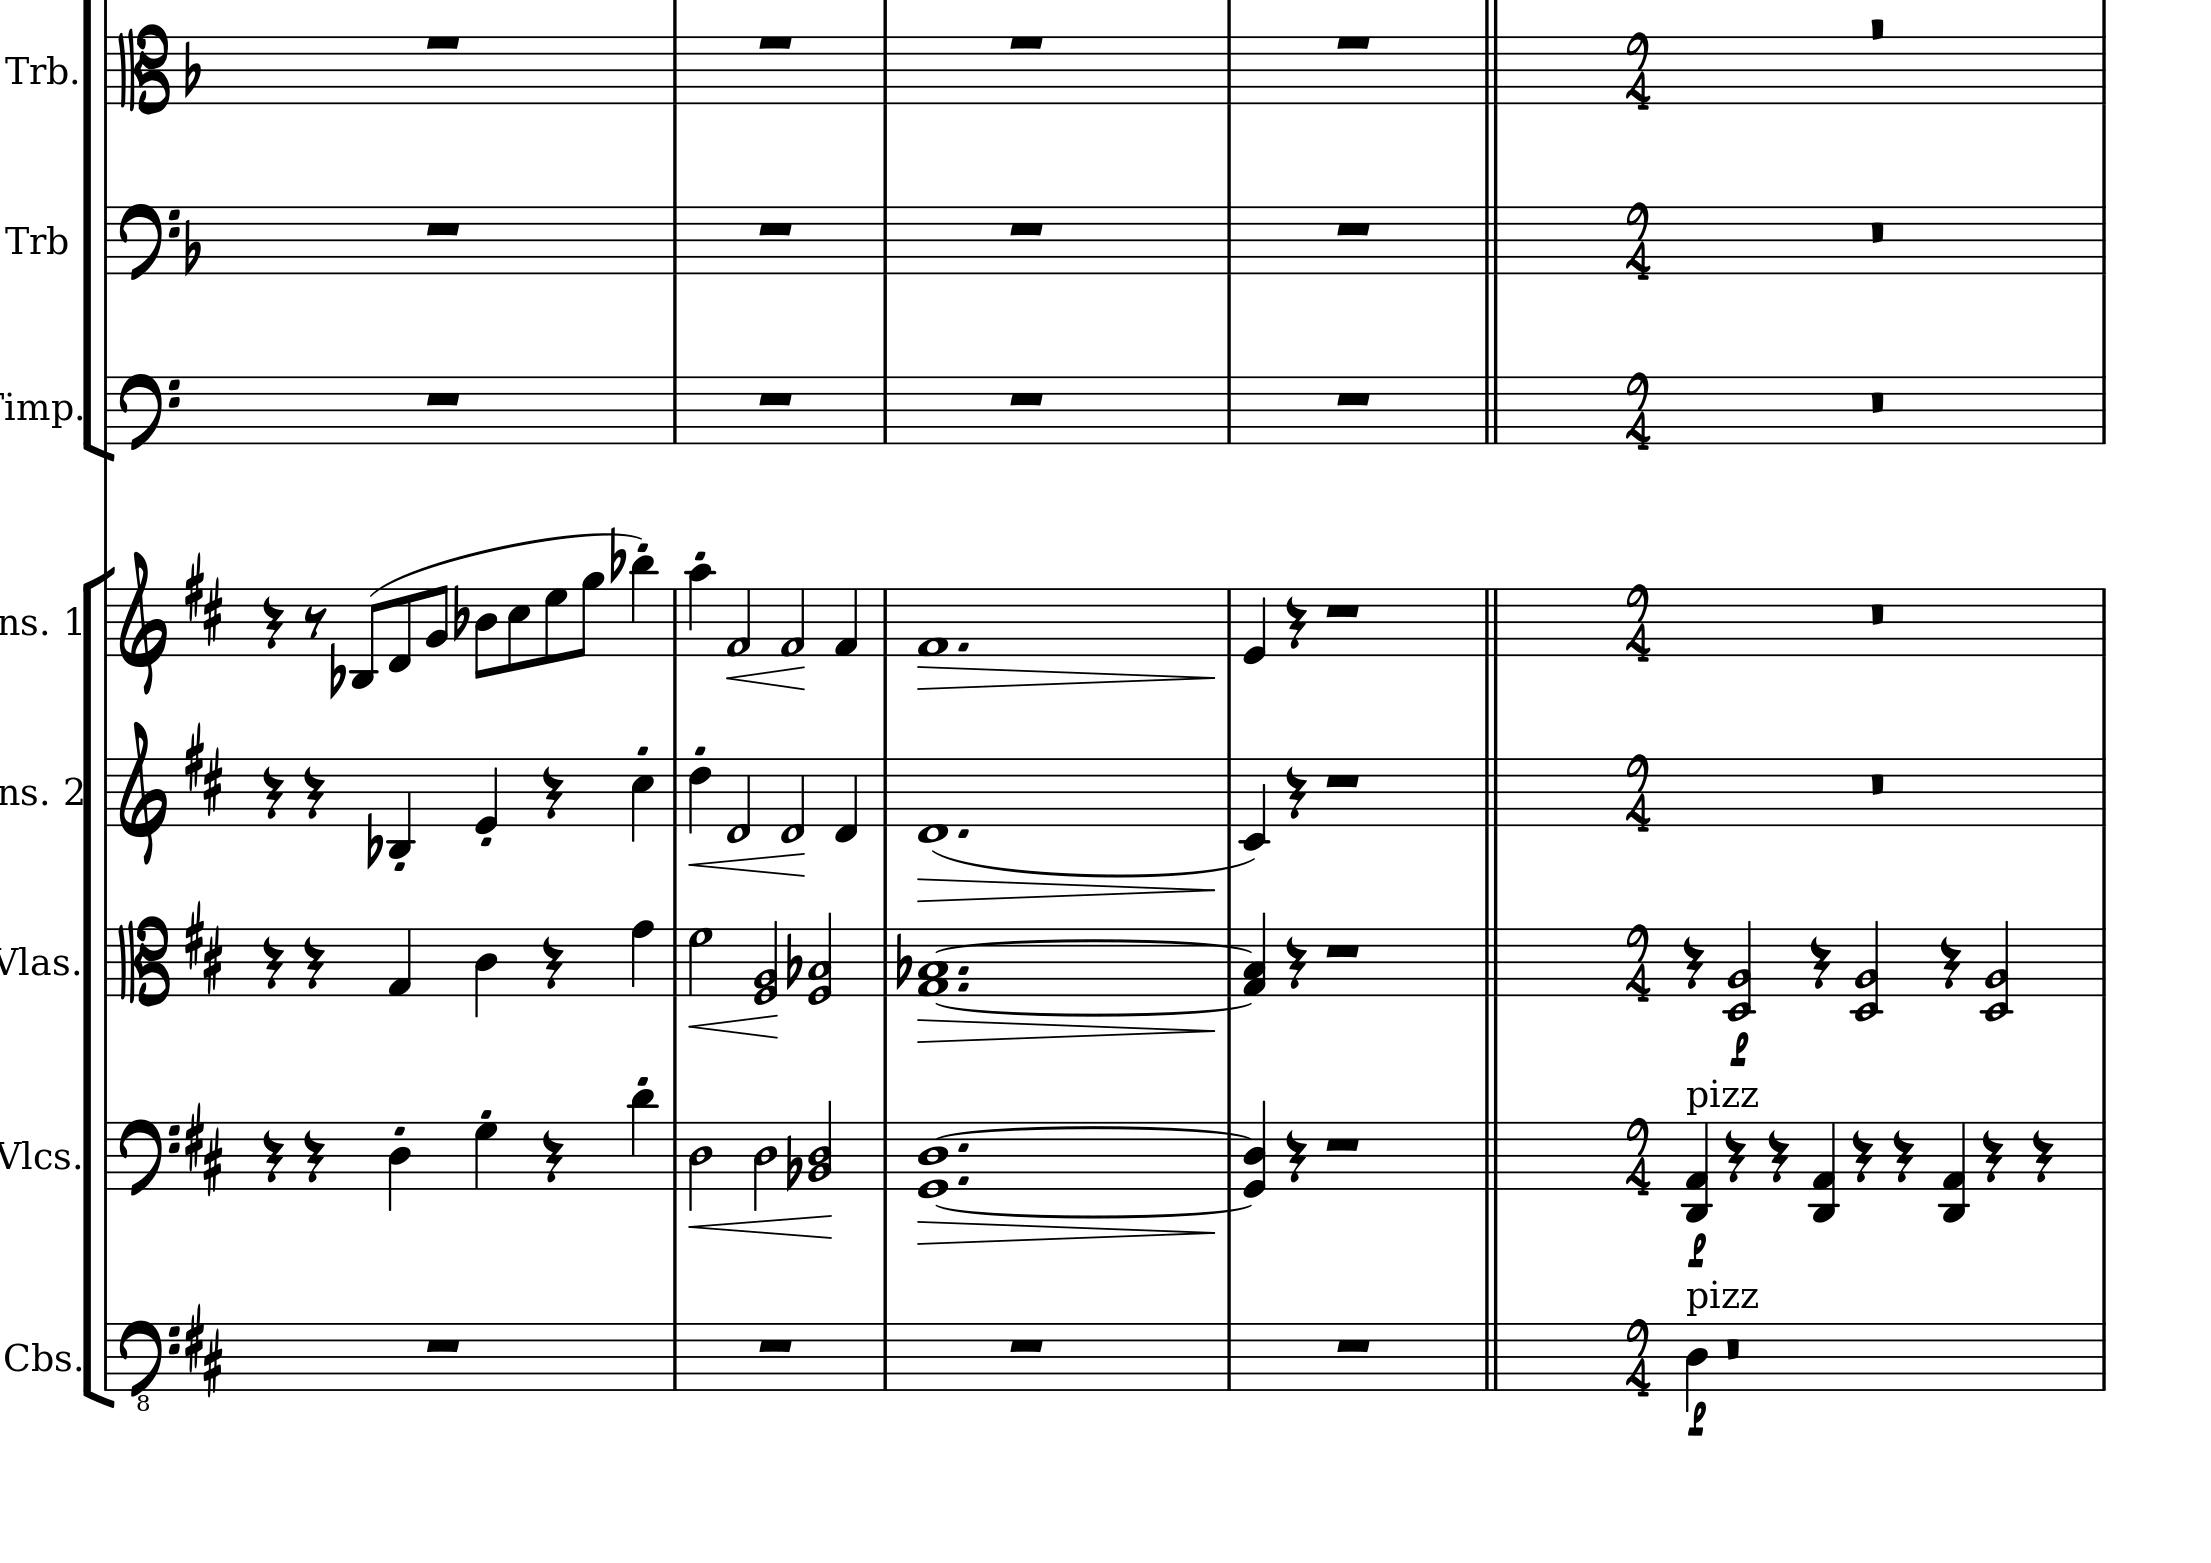1_-1: (915, 754, 951, 846)
1_0_4: (915, 1122, 951, 1199)
1_1: (915, 584, 951, 660)
1_1_3: (915, 927, 951, 998)
2_-1: (778, 754, 805, 844), (726, 756, 753, 844)
2_-2_2: (1978, 920, 2015, 1023), (1849, 920, 1885, 1022), (1724, 920, 1758, 1023)
2_0_2: (753, 920, 782, 1005)
2_0_3: (805, 913, 834, 1006)
2_1: (778, 585, 807, 660), (726, 585, 753, 658)
2_2_4: (809, 1100, 836, 1193)
2_4: (751, 1118, 778, 1211), (687, 1120, 714, 1211)
2_7: (687, 925, 712, 998)
4: (1622, 404, 1654, 452), (1622, 237, 1654, 282), (1622, 617, 1654, 663), (1622, 957, 1654, 1003), (1622, 68, 1654, 112), (1622, 790, 1654, 834), (1622, 1152, 1654, 1196), (1622, 1353, 1654, 1397)
4_-1: (832, 754, 859, 844)
4_-2: (1242, 756, 1269, 853)
4_-3: (387, 754, 414, 859)
4_-3_1: (1808, 1120, 1842, 1225), (1937, 1120, 1971, 1225), (1680, 1120, 1714, 1221)
4_0: (1243, 585, 1269, 666), (474, 754, 499, 836)
4_0_4: (1242, 1101, 1269, 1198)
4_1: (832, 585, 859, 656), (386, 927, 413, 998)
4_10: (685, 562, 716, 656)
4_11: (628, 1086, 656, 1191), (629, 555, 658, 658)
4_1_3: (1242, 912, 1267, 1000)
4_4: (386, 1120, 413, 1211), (474, 925, 499, 1018), (1685, 1319, 1709, 1411)
4_5: (629, 756, 655, 846)
4_6: (687, 756, 712, 836)
4_7: (474, 1120, 499, 1189)
4_8: (629, 919, 655, 998)
8_-1: (387, 585, 413, 675)
8_-3: (348, 587, 382, 690)
8_2: (425, 584, 448, 656)
8_4: (472, 585, 497, 682)
8_5: (506, 585, 531, 673)
8_7: (541, 585, 568, 665)
8_9: (573, 570, 606, 660)
9: (1622, 198, 1654, 239), (1622, 580, 1654, 619), (1622, 29, 1654, 66), (1622, 751, 1654, 788), (1622, 920, 1653, 957), (1622, 1115, 1653, 1150), (1624, 369, 1653, 406), (1624, 1316, 1653, 1352)
Bracke: (81, 568, 118, 1407)
Cbs: (2, 1340, 73, 1375)
Cclef: (113, 20, 169, 115), (117, 913, 169, 1006)
Crescendo_hairpin: (690, 1211, 832, 1240), (690, 849, 805, 878), (689, 1013, 778, 1039)
D_S: (183, 721, 223, 815), (183, 898, 223, 993), (183, 551, 223, 644), (183, 1101, 223, 1194), (183, 1301, 223, 1394)
Diminuendo_hairpin: (915, 875, 1216, 903), (917, 1221, 1220, 1248), (917, 1018, 1216, 1042), (724, 665, 805, 690)
Double_barline: (1477, 927, 1506, 996), (1477, 1122, 1506, 1189), (1479, 376, 1506, 443), (1479, 1323, 1506, 1390), (1479, 36, 1504, 103), (1479, 205, 1504, 272), (1479, 587, 1504, 655), (1479, 758, 1504, 825)
Fclef: (117, 369, 186, 458), (118, 1116, 179, 1199), (118, 200, 179, 281)
Flat: (181, 37, 206, 101), (183, 215, 206, 277), (893, 929, 913, 991), (783, 929, 804, 990), (326, 641, 347, 700), (607, 524, 626, 585), (364, 810, 382, 871), (783, 1132, 802, 1193), (452, 584, 470, 643)
Gclef: (117, 550, 167, 695), (118, 719, 167, 864)
Lower_Fclef: (118, 1318, 179, 1412)
Rests1: (421, 30, 465, 52), (421, 387, 465, 409), (754, 30, 797, 52), (1005, 30, 1047, 52), (1331, 30, 1374, 52), (421, 217, 464, 239), (754, 217, 797, 239), (1331, 217, 1374, 239), (1007, 217, 1047, 239), (754, 387, 797, 408), (1331, 387, 1374, 408), (1321, 601, 1363, 621), (1321, 770, 1363, 790), (1321, 941, 1363, 961), (1321, 1133, 1363, 1154), (421, 1335, 464, 1355), (754, 1335, 797, 1355), (1005, 1335, 1047, 1355), (1331, 1335, 1374, 1355), (1007, 387, 1047, 408)
Rests4: (1282, 763, 1308, 822), (301, 1127, 326, 1186), (540, 1127, 565, 1186), (1282, 1127, 1308, 1186), (1282, 594, 1308, 651), (540, 763, 565, 820), (301, 934, 326, 991), (540, 934, 565, 991), (1680, 934, 1705, 991), (261, 1127, 284, 1186), (1981, 1127, 2005, 1186), (261, 934, 284, 991), (1284, 934, 1308, 991), (1766, 1127, 1790, 1184), (261, 594, 284, 650), (261, 763, 284, 819), (301, 765, 325, 820), (1808, 934, 1832, 990), (1939, 934, 1962, 990), (2030, 1127, 2054, 1182), (1851, 1127, 1873, 1186), (1724, 1128, 1746, 1186), (1891, 1127, 1913, 1184)
Rests8: (303, 604, 326, 639)
Single_barline: (1220, 1123, 1238, 1206), (1220, 929, 1238, 1006), (2093, 1122, 2113, 1189), (98, 36, 117, 103), (1220, 376, 1238, 443), (665, 36, 683, 101), (876, 36, 895, 101), (1220, 36, 1238, 101), (665, 206, 683, 272), (876, 206, 895, 272), (1220, 206, 1238, 272), (98, 206, 117, 272), (1220, 589, 1238, 655), (1220, 758, 1238, 824), (2093, 929, 2111, 995), (98, 377, 115, 448), (667, 376, 683, 443), (2094, 376, 2111, 443), (2094, 587, 2111, 655), (667, 589, 683, 656), (667, 758, 683, 825), (876, 758, 893, 825), (2094, 758, 2111, 825), (668, 927, 685, 995), (667, 1122, 683, 1189), (876, 1122, 893, 1189), (667, 1323, 683, 1390), (876, 1323, 893, 1390), (1220, 1323, 1237, 1390), (2094, 36, 2111, 101), (2094, 206, 2111, 272), (876, 376, 893, 441), (876, 589, 893, 655), (96, 929, 113, 995), (876, 929, 893, 995), (2094, 1323, 2111, 1389), (98, 1123, 115, 1187), (98, 758, 113, 824), (100, 589, 113, 655), (100, 1324, 113, 1389)
Slur: (365, 529, 639, 594), (932, 849, 1255, 880), (932, 935, 1252, 956), (935, 1123, 1254, 1142), (935, 1203, 1260, 1220), (935, 1001, 1252, 1017)
TimeSig: (1622, 200, 1653, 282), (1622, 369, 1653, 452), (1622, 922, 1653, 1005), (1622, 1115, 1653, 1198), (1622, 30, 1653, 112), (1622, 582, 1653, 663), (1622, 753, 1653, 834), (1624, 1318, 1653, 1399)
Trb: (2, 42, 69, 91), (2, 217, 69, 262)
Vla: (2, 941, 51, 983)
Vlc: (2, 1132, 52, 1177)
dot: (956, 1140, 971, 1155), (956, 1172, 971, 1187), (956, 961, 969, 978), (956, 639, 971, 653), (956, 825, 971, 839), (956, 979, 971, 991)
p: (1727, 1030, 1751, 1067), (1685, 1401, 1709, 1438), (1687, 1230, 1709, 1269)
